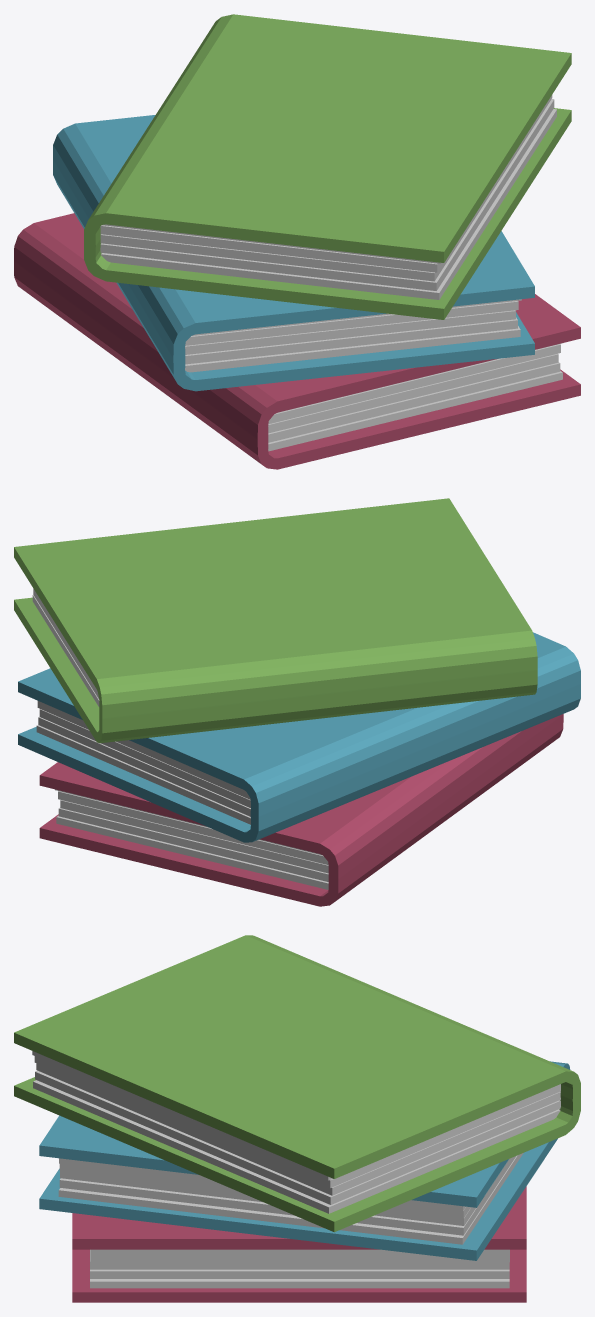
File: book3.fbx
The picture shows the model from 3 angles, top to bottom: view 1: azimuth 30°, elevation 25°; view 2: azimuth 150°, elevation 25°; view 3: azimuth 270°, elevation 25°; orthographic projection. The views are drawn at different scales.
Visible parts, largest first — view 1: Cube.012, Cube.009, Cube.011, Cube.016, Cube.017, Cube.015, Cube.006, Cube.014, Cube.007, Cube.000, Cube.004, Cube.008 (+4 smaller); view 2: Cube.012, Cube.011, Cube.009, Cube.004, Cube.003, Cube.005, Cube.002, Cube.006, Cube.000, Cube.007, Cube.008, Cube.017; view 3: Cube.012, Cube.009, Cube.011, Cube.016, Cube.017, Cube.015, Cube.005, Cube.004, Cube.000, Cube.014, Cube.006, Cube.003 (+6 smaller).
Part boxes in pixels (x1,y1,x2,y2): Cube.012: [84, 14, 571, 319]; Cube.009: [14, 213, 580, 469]; Cube.011: [53, 115, 534, 391]; Cube.016: [100, 99, 554, 290]; Cube.017: [101, 109, 556, 299]; Cube.015: [100, 95, 552, 281]; Cube.006: [185, 317, 517, 364]; Cube.014: [100, 225, 443, 272]; Cube.007: [185, 310, 515, 354]; Cube.000: [185, 326, 520, 372]; Cube.004: [268, 362, 560, 442]; Cube.008: [185, 301, 518, 345]; Cube.012: [14, 498, 537, 743]; Cube.011: [18, 632, 580, 842]; Cube.009: [39, 714, 563, 906]; Cube.004: [58, 807, 328, 881]; Cube.003: [60, 800, 328, 873]; Cube.005: [56, 815, 328, 889]; Cube.002: [58, 791, 328, 864]; Cube.006: [38, 717, 250, 816]; Cube.000: [36, 725, 250, 824]; Cube.007: [39, 709, 250, 807]; Cube.008: [37, 701, 250, 799]; Cube.017: [32, 595, 99, 706]; Cube.012: [14, 935, 580, 1232]; Cube.009: [72, 1186, 526, 1302]; Cube.011: [39, 1061, 570, 1260]; Cube.016: [35, 1070, 560, 1204]; Cube.017: [33, 1080, 560, 1213]; Cube.015: [36, 1063, 560, 1195]; Cube.005: [90, 1279, 509, 1288]; Cube.004: [90, 1269, 509, 1278]; Cube.000: [58, 1153, 523, 1244]; Cube.014: [34, 1056, 560, 1187]; Cube.006: [59, 1156, 516, 1235]; Cube.003: [90, 1250, 509, 1269].
Size of the model in its own units: 348 by 131 by 347.
